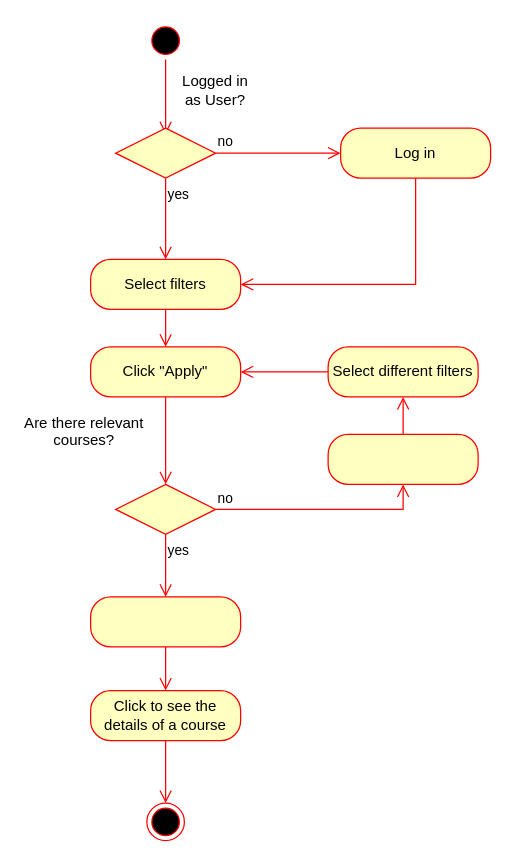
The diagram is 513 pixels wide and 863 high, and some of its shapes have lost their labels. Each missing label, with the centre of its shape:
Inform User about failure: (x=402, y=458)
See the relevant courses: (x=165, y=621)
